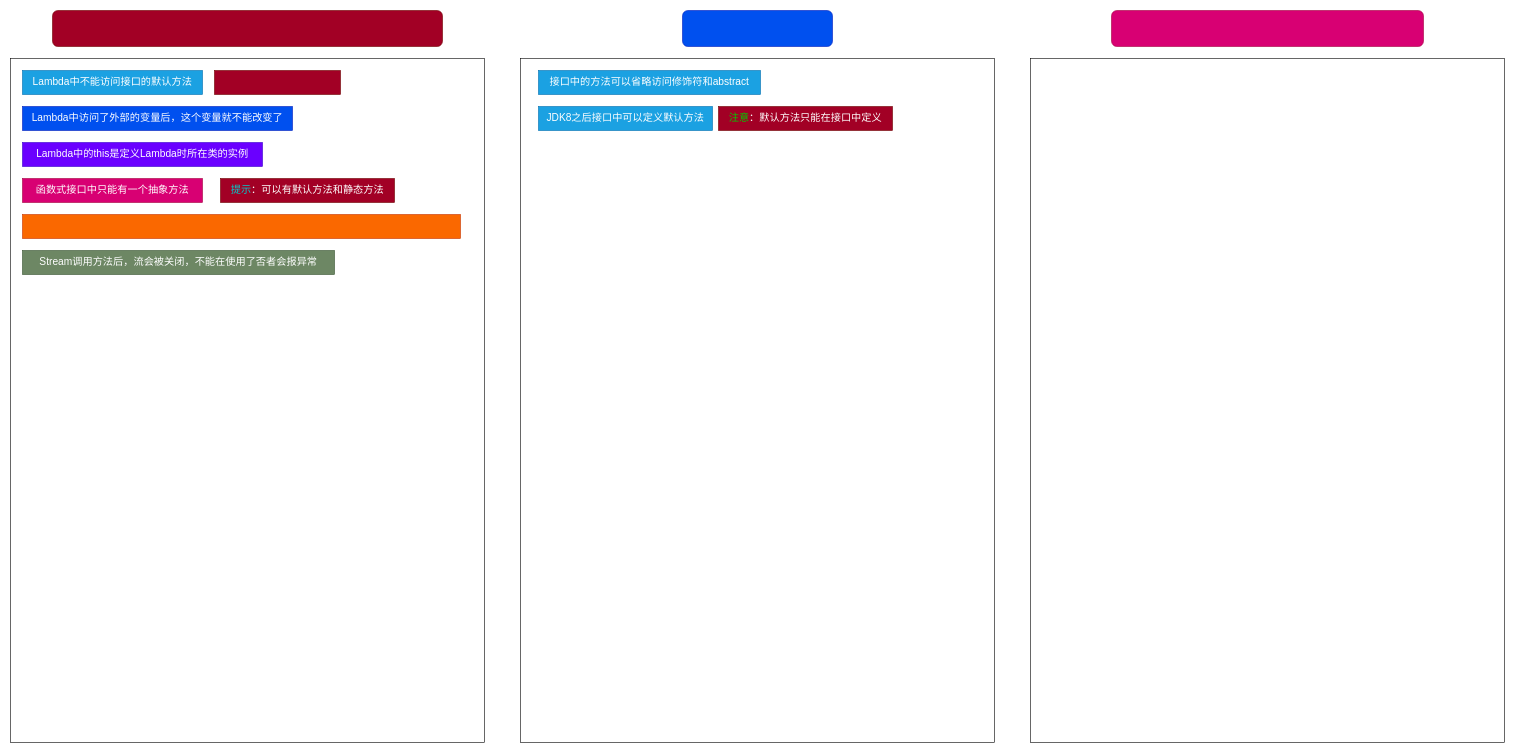
This 1515x753 diagram has some shape labels left out. Each missing label, with the box of its shape:
lambda、 函数式接口、Stream流、方法引用: (52, 10, 442, 46)
函数式接口使用@FunctionalInterface注解强制检查该接口是否确实有且仅有一个抽象方法: (22, 214, 460, 238)
接口、抽象类: (682, 10, 832, 46)
提示 ：内部类可以: (214, 70, 340, 94)
